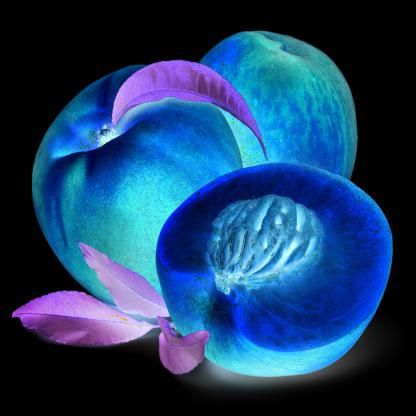peach leaf: (111, 59, 269, 161), (9, 289, 157, 354), (76, 239, 165, 314), (156, 323, 210, 381)
